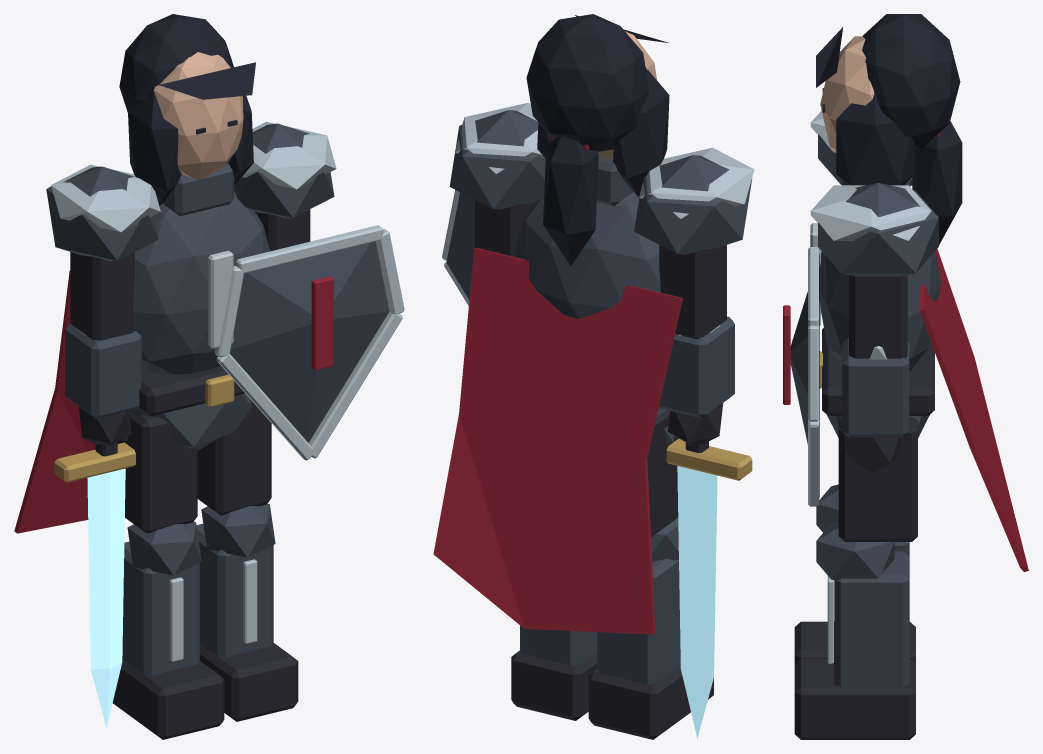
File: hero.glb
The picture shows the model from 3 angles, left to right: view 1: azimuth 30°, elevation 25°; view 2: azimuth 150°, elevation 25°; view 3: azimuth 270°, elevation 25°; orthographic projection. The views are drawn at different scales.
Parts seen in each view (by area): view 1: Kite shield, Breastplate, Blade, Right thigh, Right greave, Cape panels, Left greave, Right boot, Face, Left thigh, Right gauntlet, Hair back (+27 smaller); view 2: Cape panels, Hair back, Breastplate, Blade, Right shoulder, Left shoulder, Right greave, Ponytail, Right gauntlet, Right boot, Right upper arm, Left boot (+11 smaller); view 3: Hair back, Left greave, Cape panels, Left boot, Left thigh, Left shoulder, Left gauntlet, Hair framing.001, Left upper arm, Breastplate, Ponytail, Left shoulder trim (+14 smaller).
Part boxes in pixels (x1,y1,x2,y2): Kite shield: [230, 241, 389, 442]; Breastplate: [133, 191, 270, 374]; Blade: [87, 468, 125, 727]; Right thigh: [117, 411, 197, 533]; Right greave: [122, 541, 199, 675]; Cape panels: [14, 270, 95, 533]; Left greave: [196, 523, 273, 657]; Right boot: [112, 659, 224, 739]; Face: [153, 52, 243, 179]; Left thigh: [197, 399, 271, 515]; Right gauntlet: [65, 323, 142, 418]; Hair back: [119, 14, 233, 112]; Cape panels: [433, 247, 682, 634]; Hair back: [526, 14, 649, 151]; Breastplate: [515, 192, 660, 319]; Blade: [677, 466, 717, 738]; Right shoulder: [634, 155, 751, 254]; Left shoulder: [449, 110, 545, 209]; Right greave: [597, 558, 680, 684]; Ponytail: [543, 135, 598, 265]; Right gauntlet: [659, 316, 734, 418]; Right boot: [588, 666, 713, 739]; Right upper arm: [659, 245, 726, 338]; Left boot: [511, 650, 597, 720]; Hair back: [862, 14, 960, 149]; Left greave: [834, 551, 909, 686]; Cape panels: [919, 248, 1028, 571]; Left boot: [794, 658, 915, 739]; Left thigh: [838, 417, 917, 541]; Left shoulder: [818, 183, 938, 276]; Left gauntlet: [842, 337, 909, 437]; Hair framing.001: [836, 91, 914, 185]; Left upper arm: [849, 275, 907, 358]; Breastplate: [819, 251, 940, 371]; Ponytail: [912, 121, 962, 244]; Left shoulder trim: [810, 185, 931, 240].
Bounding box in the file's own units: 0.9007 × 1.84 × 0.588.
